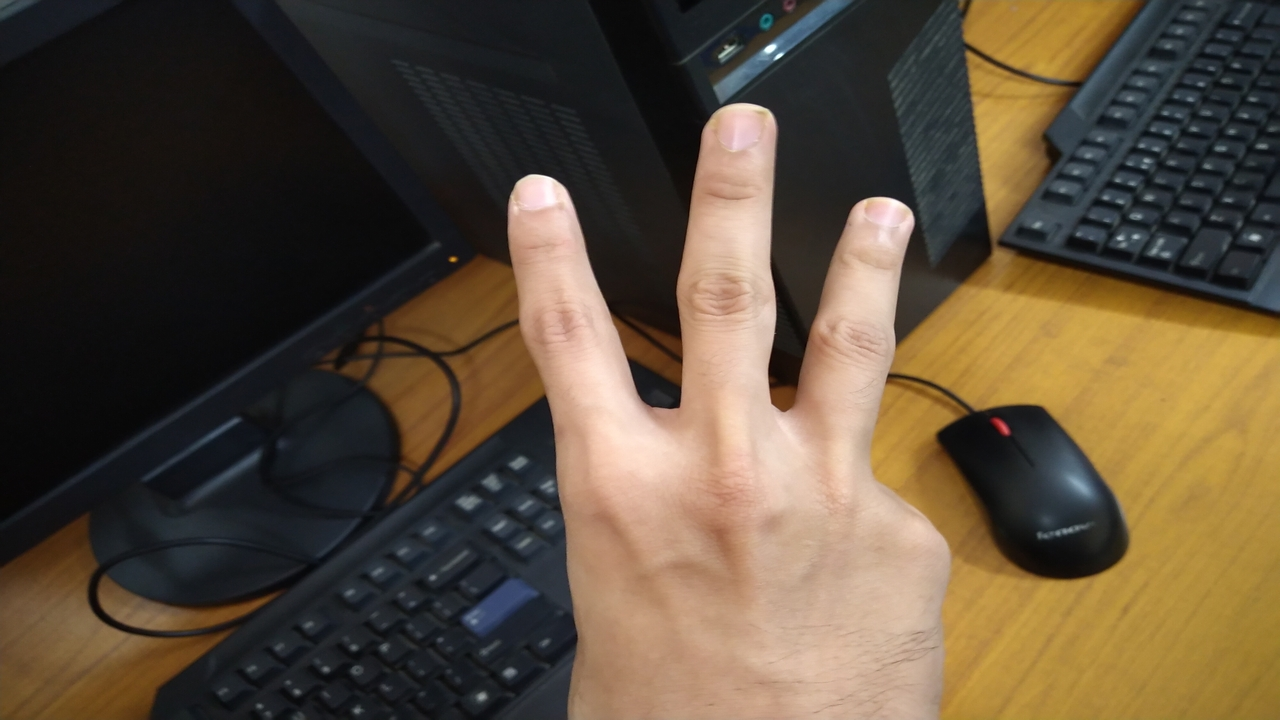fingertip: (696, 92, 784, 172), (838, 186, 926, 258), (500, 166, 578, 238)
